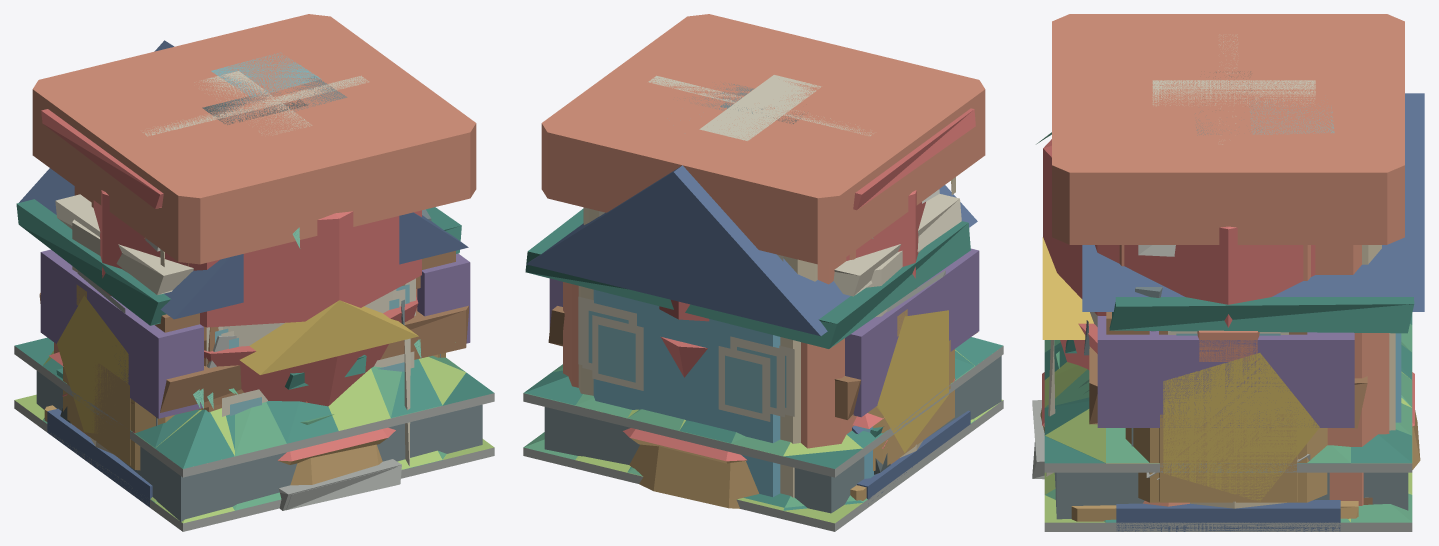
The model's file is toy-town-lod.glb.
3 views of the same model, side by side, from view 1: azimuth 30°, elevation 25°; view 2: azimuth 150°, elevation 25°; view 3: azimuth 270°, elevation 25° (orthographic). The views are drawn at different scales.
Visible parts, largest first — view 1: pickup_10_0, pickup_28_0, pickup_02_0, pickup_49_0, pickup_49_2, pickup_15_2, pickup_24_0, pickup_15_0, pickup_49_1, pickup_17_0, pickup_18_0, pickup_27_0 (+19 smaller); view 2: pickup_10_0, pickup_15_0, pickup_15_1, pickup_15_2, pickup_28_0, pickup_49_0, pickup_49_1, pickup_24_0, pickup_00_0, pickup_27_0, pickup_41_1, pickup_13_0 (+17 smaller); view 3: pickup_10_0, pickup_13_0, pickup_24_0, pickup_15_2, pickup_00_0, pickup_49_0, pickup_15_0, pickup_02_0, pickup_14_0, pickup_49_2, pickup_19_0, pickup_49_1 (+12 smaller).
Part boxes in pixels (box(x1,y1,x2,y2)): pickup_10_0: box(32, 14, 476, 412); pickup_28_0: box(81, 34, 417, 311); pickup_02_0: box(93, 190, 421, 327); pickup_49_0: box(14, 346, 494, 521); pickup_49_2: box(14, 337, 494, 520); pickup_15_2: box(16, 199, 461, 466); pickup_24_0: box(40, 186, 470, 418); pickup_15_0: box(19, 40, 468, 510); pickup_49_1: box(14, 346, 482, 520); pickup_17_0: box(39, 209, 468, 426); pickup_18_0: box(204, 289, 418, 406); pickup_27_0: box(41, 109, 236, 423); pickup_10_0: box(541, 14, 985, 264); pickup_15_0: box(526, 165, 977, 497); pickup_15_1: box(592, 289, 780, 496); pickup_15_2: box(525, 208, 970, 448); pickup_28_0: box(590, 40, 929, 177); pickup_49_0: box(523, 347, 1003, 498); pickup_49_1: box(544, 337, 1003, 513); pickup_24_0: box(549, 207, 979, 417); pickup_00_0: box(876, 310, 948, 452); pickup_27_0: box(833, 108, 975, 474); pickup_41_1: box(629, 444, 759, 508); pickup_13_0: box(604, 56, 909, 259); pickup_10_0: box(1052, 14, 1404, 244); pickup_13_0: box(1159, 26, 1331, 280); pickup_24_0: box(1097, 245, 1361, 427); pickup_15_2: box(1042, 237, 1414, 505); pickup_00_0: box(1163, 353, 1319, 501); pickup_49_0: box(1044, 324, 1412, 518); pickup_15_0: box(1032, 93, 1424, 479); pickup_02_0: box(1043, 139, 1315, 327); pickup_14_0: box(1157, 414, 1299, 501); pickup_49_2: box(1044, 314, 1412, 519); pickup_19_0: box(1116, 500, 1340, 531); pickup_49_1: box(1044, 371, 1412, 519).
Size of the model in its own units: 1 by 1 by 1.
